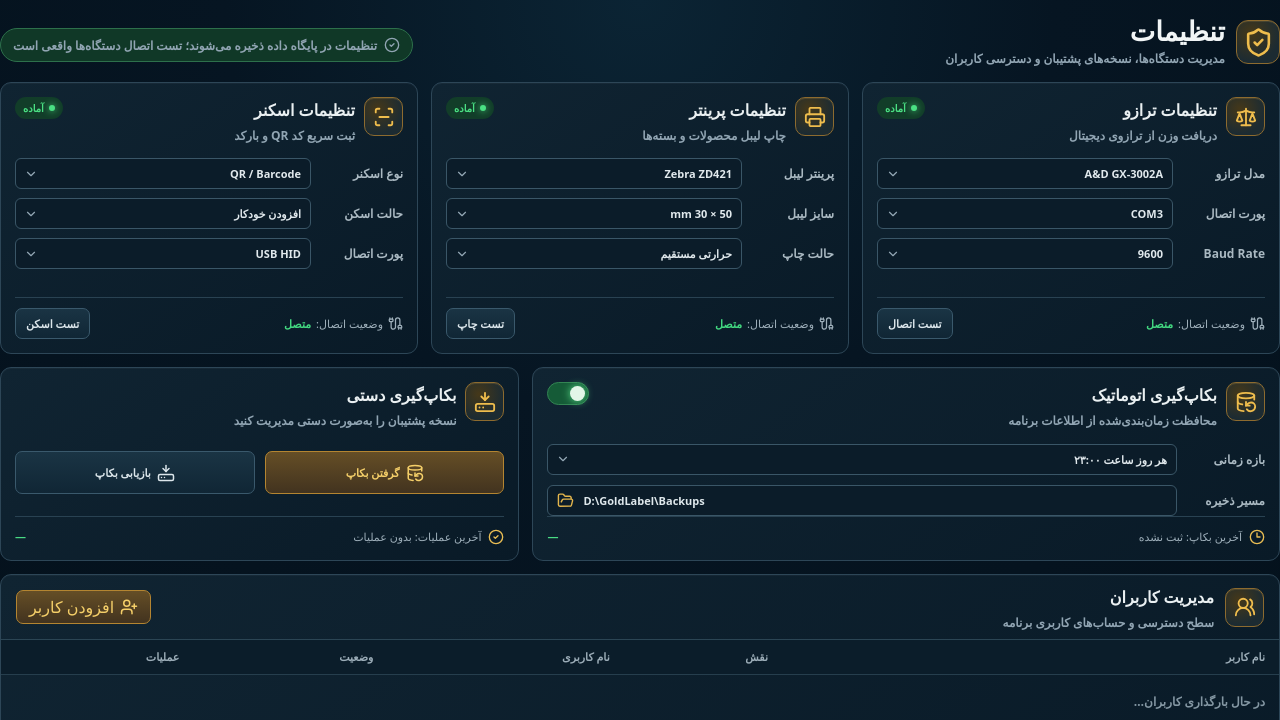
settings hardware actions › writes a manual backup and records the completion time
Click the button "گرفتن بکاپ".
click(385, 472)  # box [265,451,504,494]
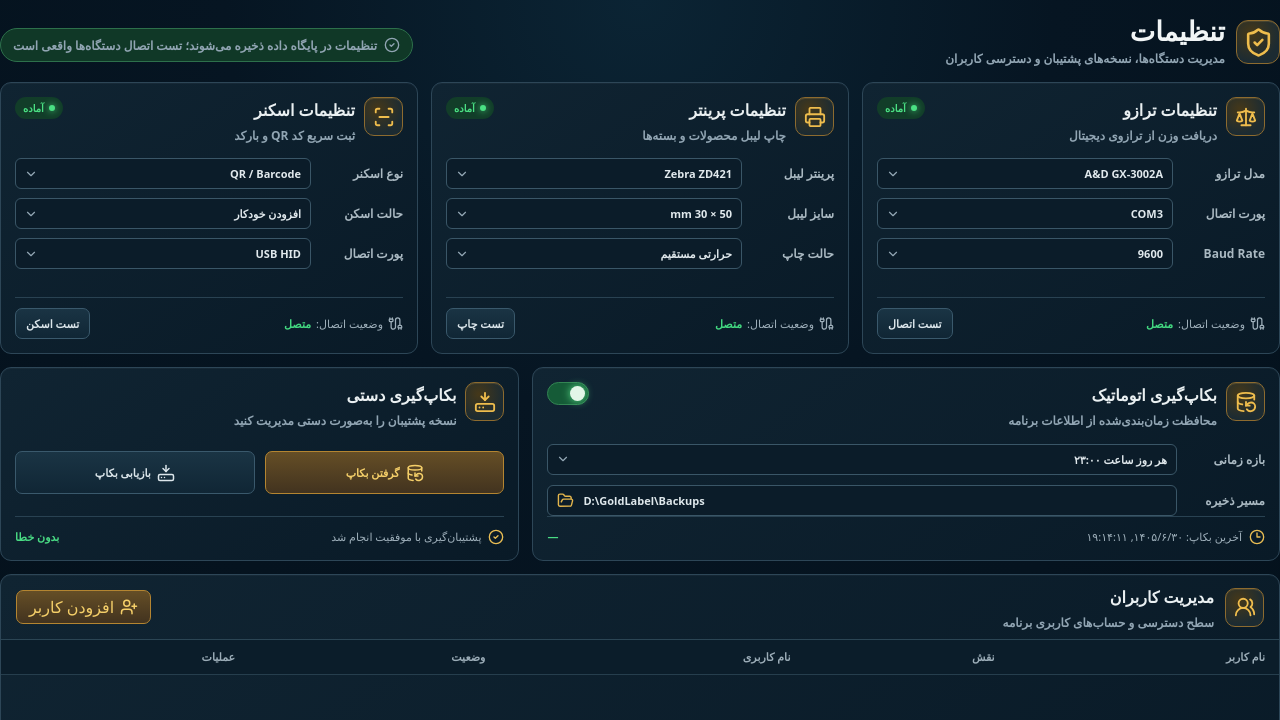
Now the text "پشتیبان‌گیری با موفقیت انجام شد" is shown, box [331,529,482,544]
